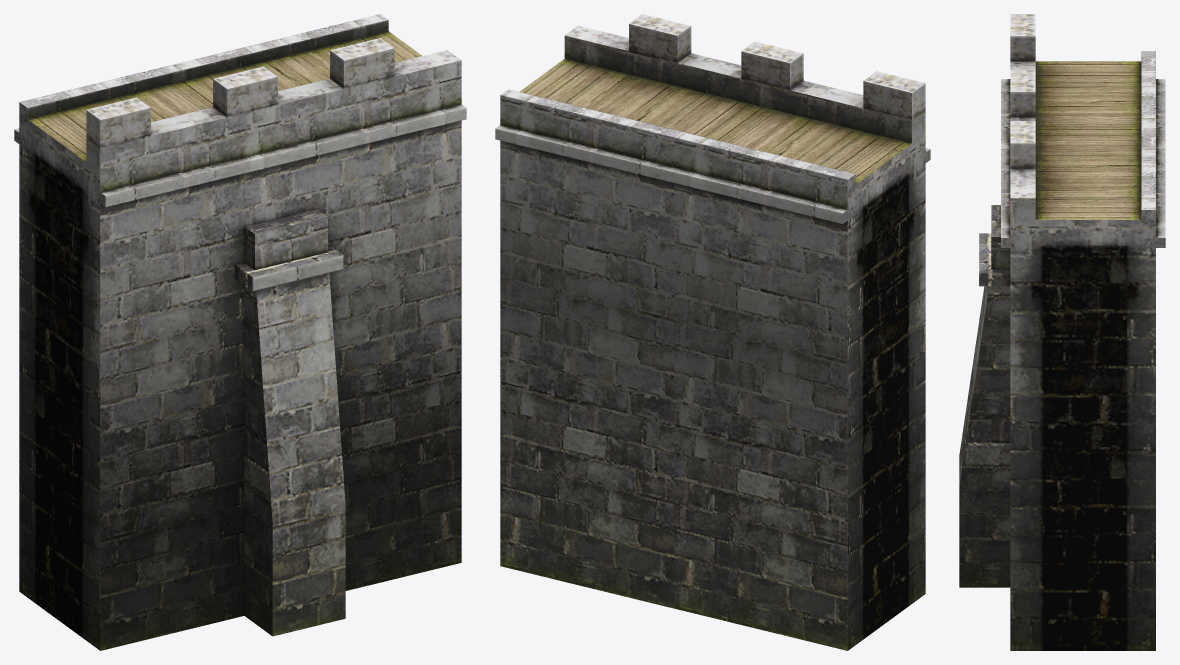
File: CastleWall.FBX
3 renders of one model, left to right at view 1: azimuth 30°, elevation 25°; view 2: azimuth 150°, elevation 25°; view 3: azimuth 270°, elevation 25°, orthographic. The views are drawn at different scales.
Visible parts, largest first — view 1: CastleWall; view 2: CastleWall; view 3: CastleWall.
Boxes of the visible parts, x1,y1,x2,y2 form: CastleWall: (14, 14, 466, 650); CastleWall: (495, 14, 930, 650); CastleWall: (959, 14, 1165, 650).
Size of the model in its own units: 1336 by 1876 by 733.
